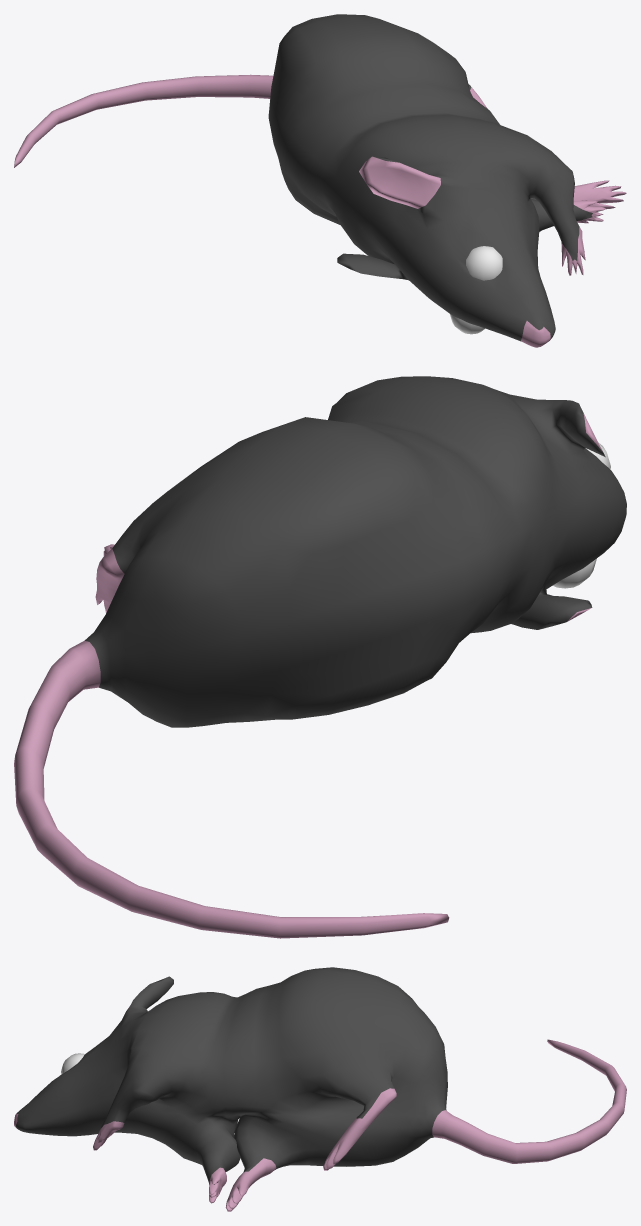
File: SM_FP_Rat.fbx
The picture shows the model from 3 angles, top to bottom: view 1: azimuth 30°, elevation 25°; view 2: azimuth 150°, elevation 25°; view 3: azimuth 270°, elevation 25°; orthographic projection. The views are drawn at different scales.
Visible parts, largest first — view 1: StudioOchiMouse.005, Sphere001; view 2: StudioOchiMouse.005; view 3: StudioOchiMouse.005.
Boxes of the visible parts, x1,y1,x2,y2 form: StudioOchiMouse.005: (14,14,626,347); Sphere001: (466,246,502,280); StudioOchiMouse.005: (14,376,626,938); StudioOchiMouse.005: (14,967,626,1211).
Bounding box in the file's own units: 13.2 × 5.77 × 19.7.
